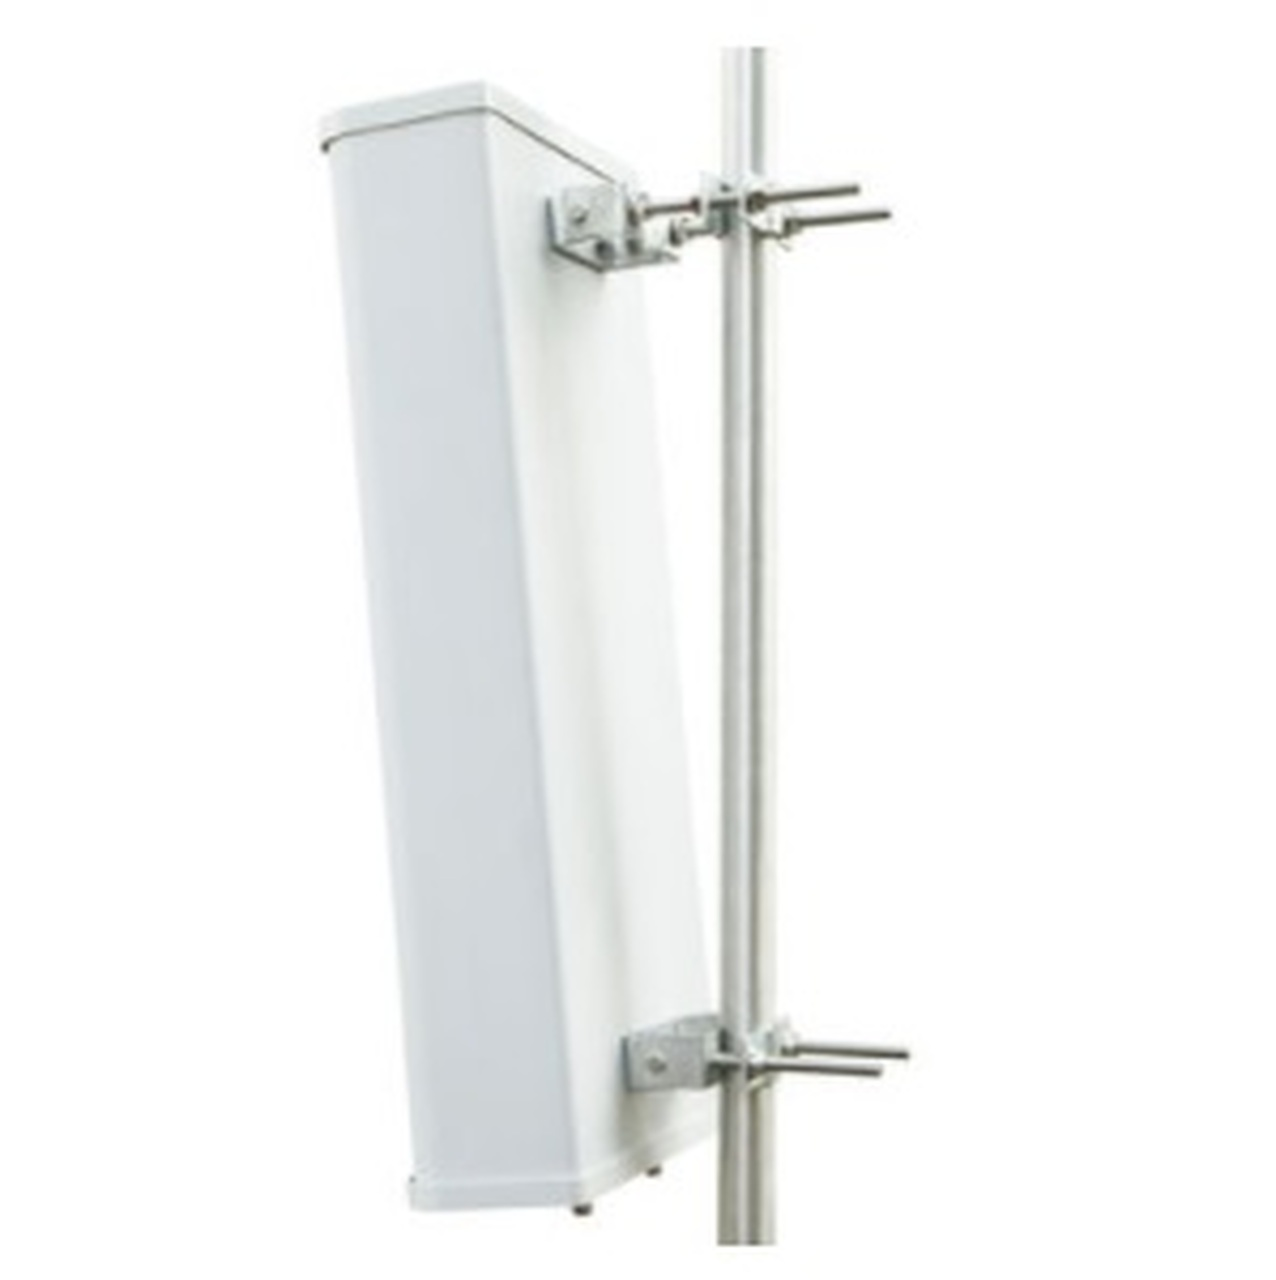sa: (240, 69, 932, 1236)
